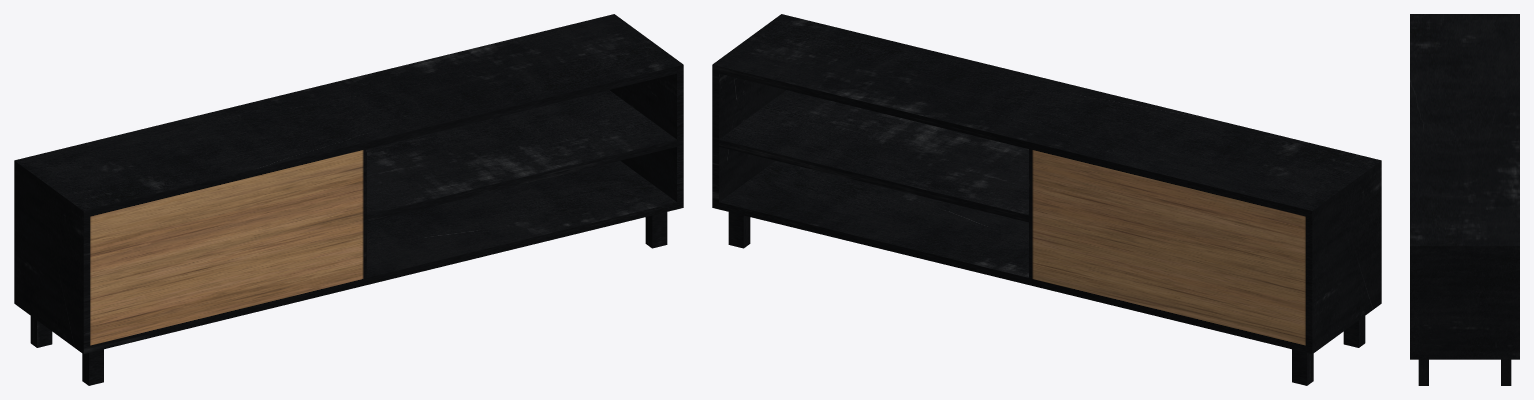
Rendered from tv_table.glb.
3 renders of one model, left to right at view 1: azimuth 30°, elevation 25°; view 2: azimuth 150°, elevation 25°; view 3: azimuth 270°, elevation 25°, orthographic. The views are drawn at different scales.
Parts seen in each view (by area): view 1: Object_2; view 2: Object_2; view 3: Object_2.
Part boxes in pixels (left/top/right/bottom): Object_2: left=14, top=14, right=683, bottom=385; Object_2: left=712, top=14, right=1381, bottom=385; Object_2: left=1410, top=14, right=1519, bottom=385.
Bounding box in the file's own units: 1.8 × 0.52 × 0.36.
1 material, 1 textured.
